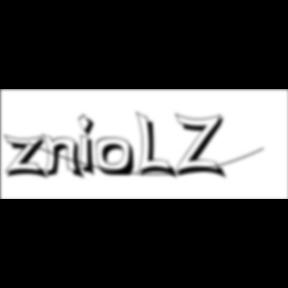L: (136, 110, 180, 182)
Z: (176, 112, 231, 181)
i: (78, 112, 102, 180)
n: (42, 132, 88, 181)
o: (96, 137, 138, 179)
z: (3, 134, 53, 182)
